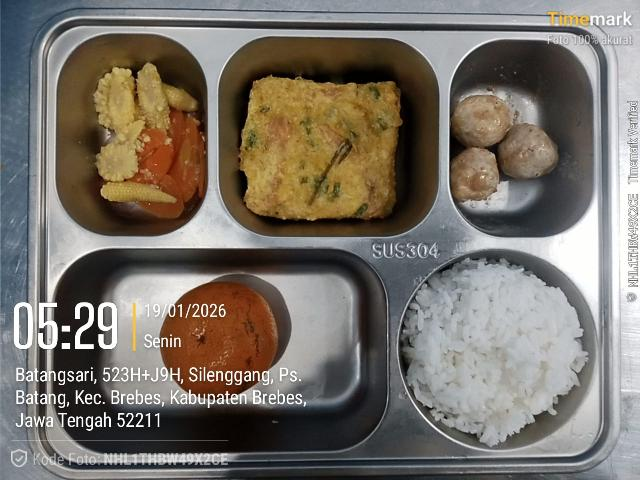bakso: (450, 95, 558, 201)
buah: (161, 281, 278, 397)
nasi: (401, 259, 588, 446)
sayur: (93, 63, 206, 217)
tahu: (240, 76, 402, 220)
